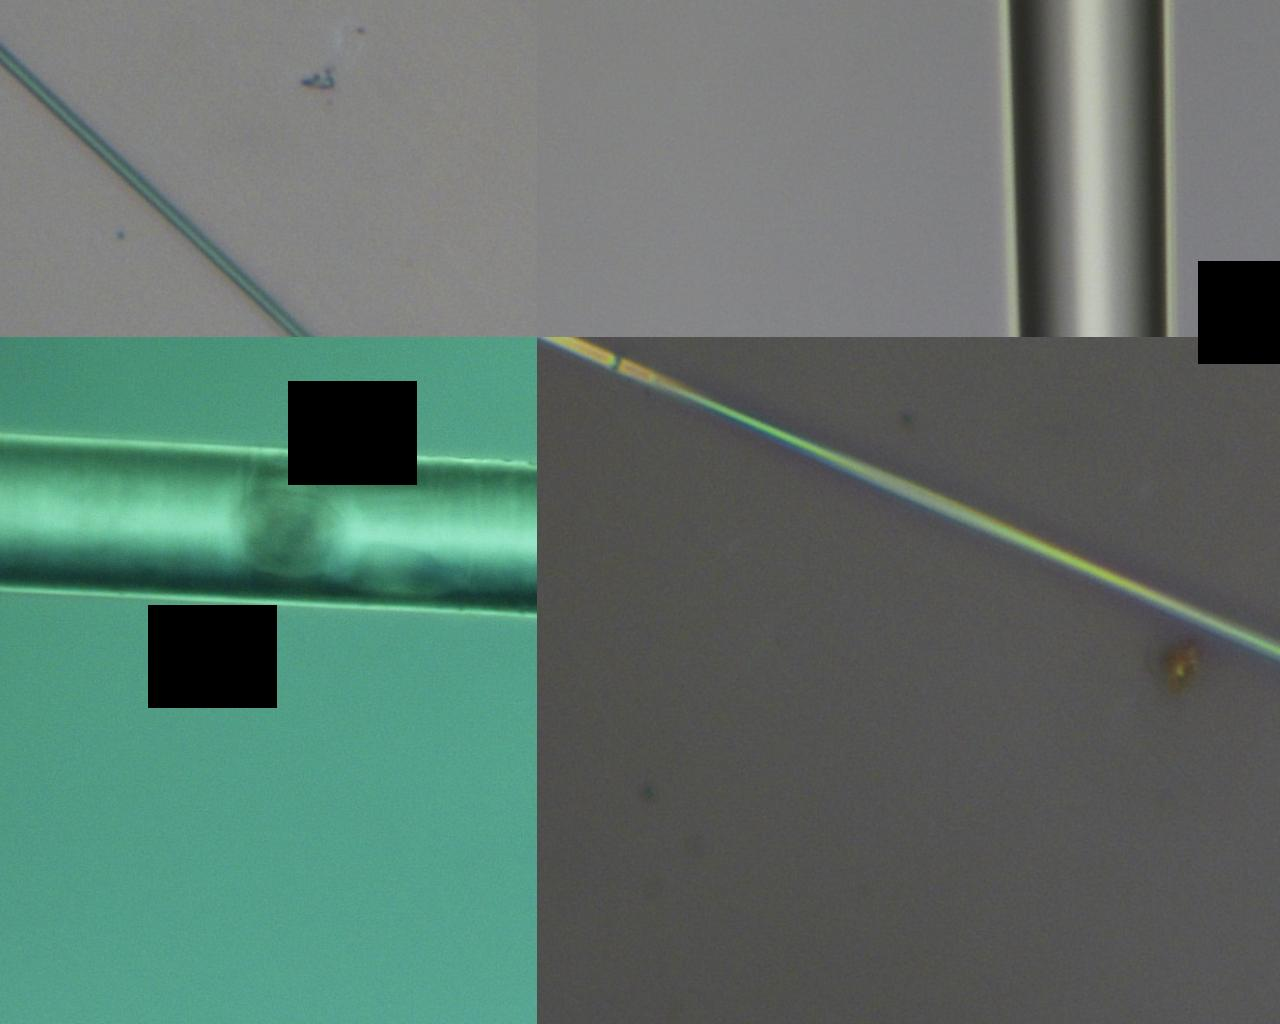fiber: (537, 338, 1280, 660), (0, 430, 537, 618), (0, 41, 315, 338), (1007, 0, 1170, 338)
